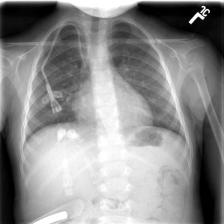normal: (20, 20, 191, 174)
